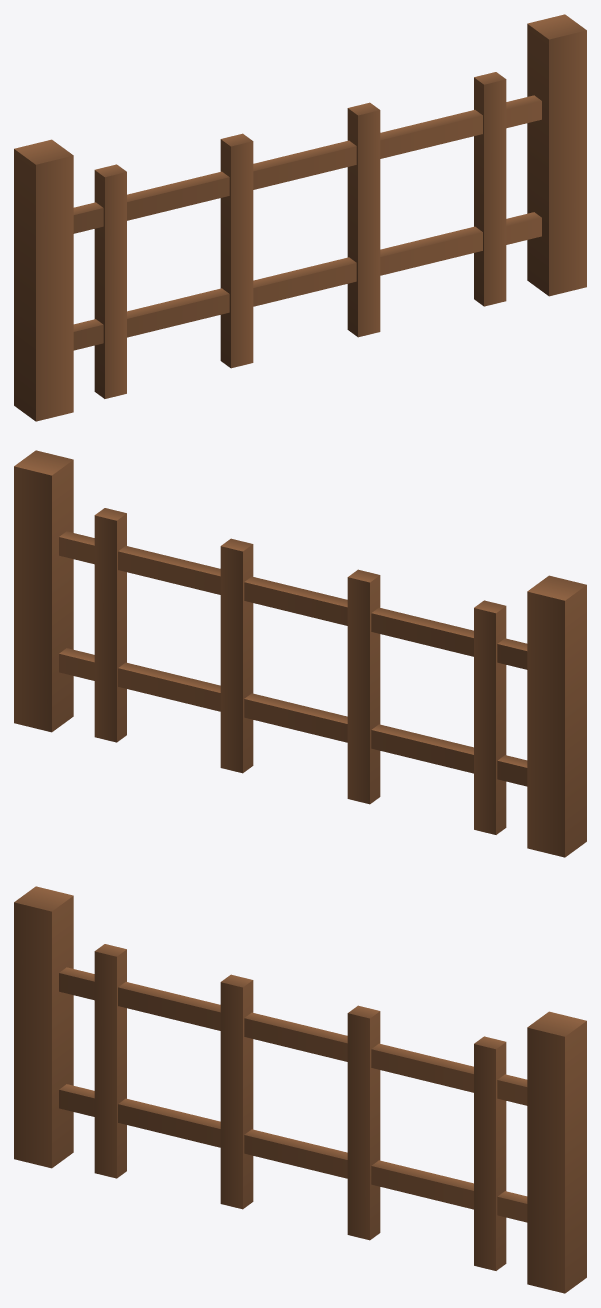
The model's file is fence_section.fbx.
3 views of the same model, one above another, from view 1: azimuth 30°, elevation 25°; view 2: azimuth 150°, elevation 25°; view 3: azimuth 330°, elevation 25° (orthographic).
Parts seen in each view (by area): view 1: fence_section; view 2: fence_section; view 3: fence_section.
Boxes of the visible parts, x1=… form: fence_section: x1=14, y1=14, x2=586, y2=421; fence_section: x1=14, y1=450, x2=586, y2=857; fence_section: x1=14, y1=886, x2=586, y2=1293.
Size of the model in its own units: 500 by 223 by 34.41.
